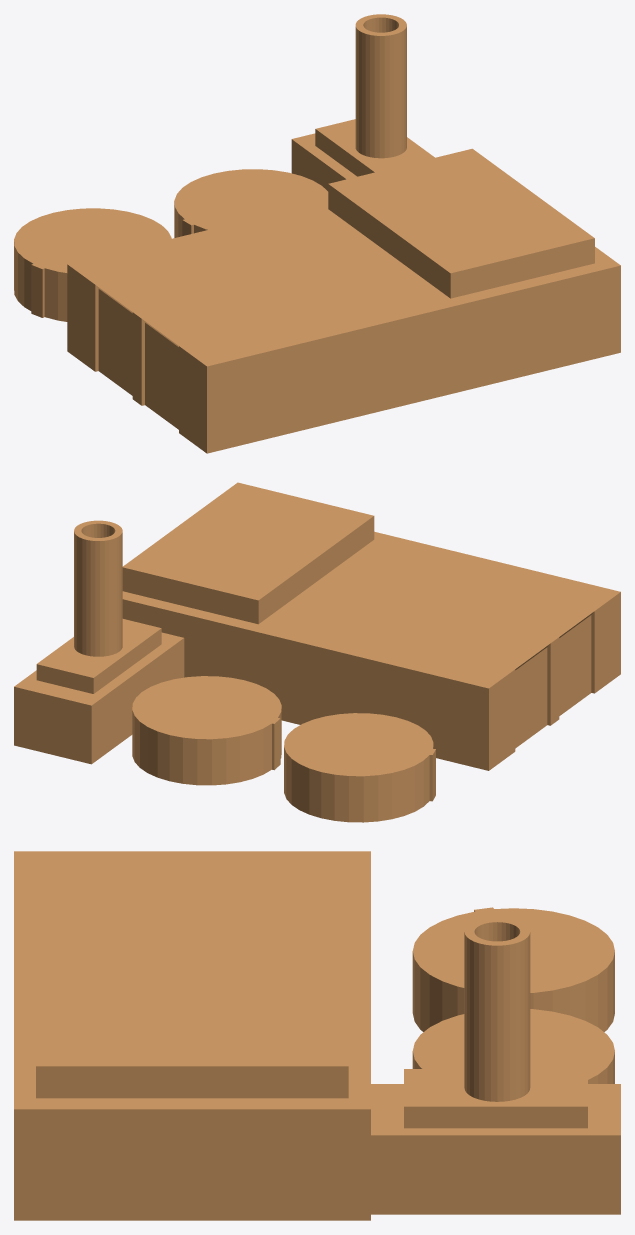
The model's file is Factory.fbx.
3 views of the same model, one above another, from view 1: azimuth 30°, elevation 25°; view 2: azimuth 150°, elevation 25°; view 3: azimuth 270°, elevation 25° (orthographic). The views are drawn at different scales.
Parts seen in each view (by area): view 1: Cube; view 2: Cube; view 3: Cube.
Boxes of the visible parts, x1,y1,x2,y2 form: Cube: (14,14,620,453); Cube: (14,482,620,822); Cube: (14,851,620,1220).
Size of the model in its own units: 176 by 81.98 by 175.
